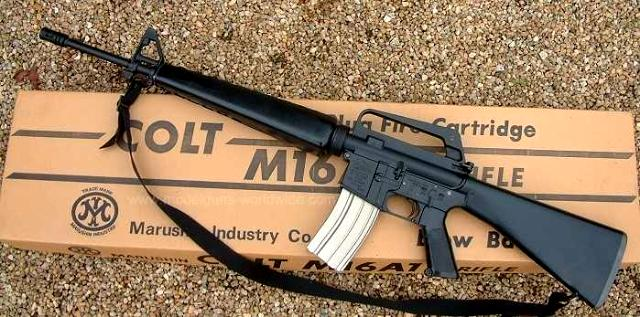rifle: (31, 16, 628, 304)
